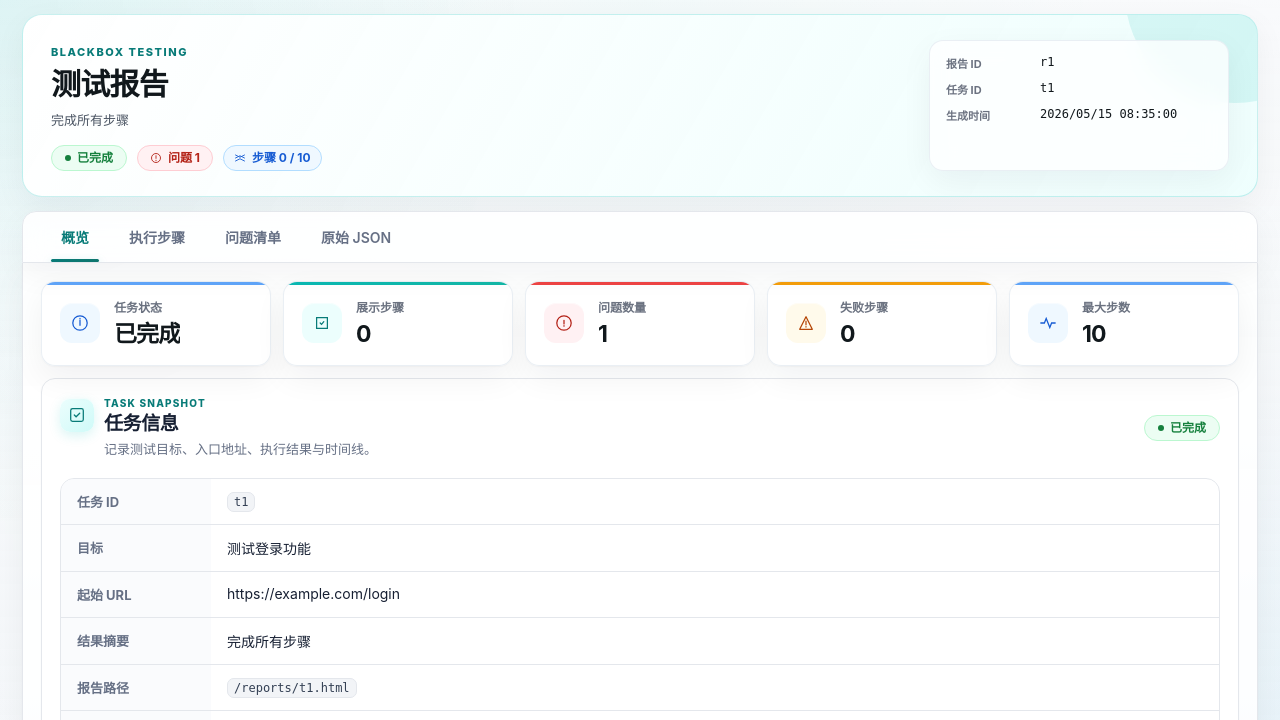
ReportView › 渲染问题数量（findings 页签激活后）
Click the tab with class "nav-link" showing "问题清单".
click(253, 237)  # box 205,212 -> 301,262
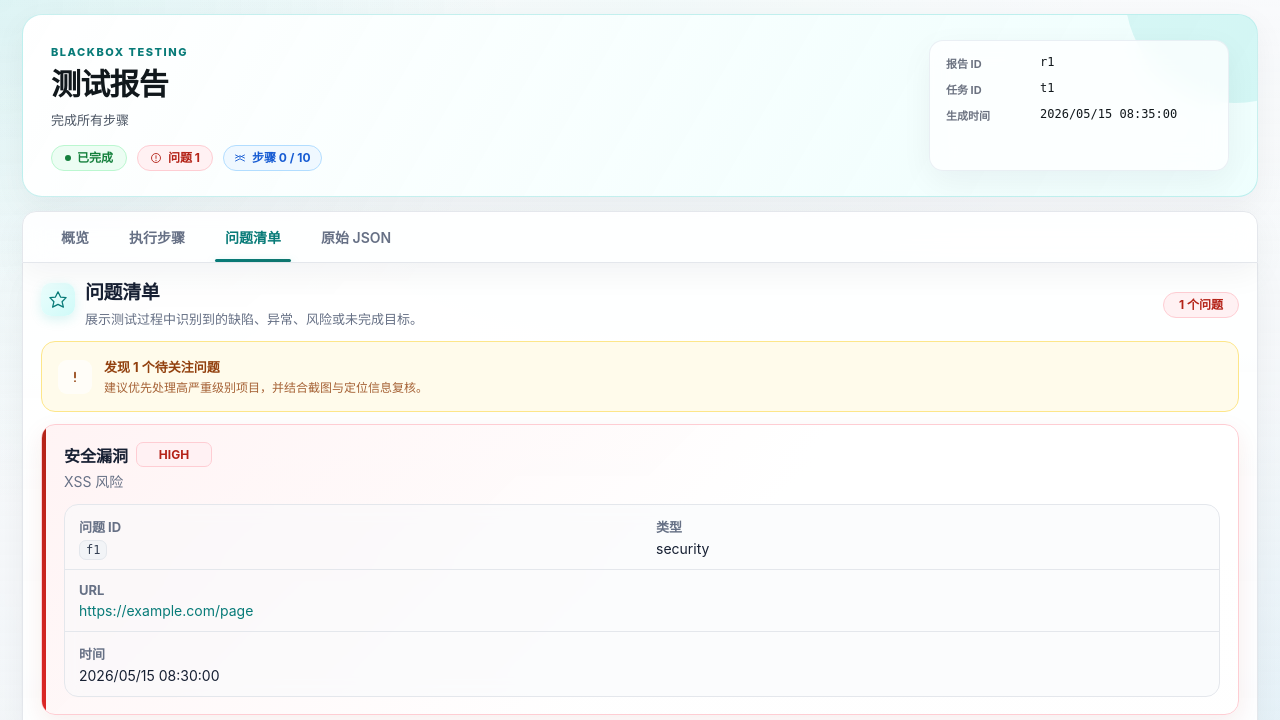
Expected: the text "1 个问题" is shown, 1163,292 -> 1239,318
